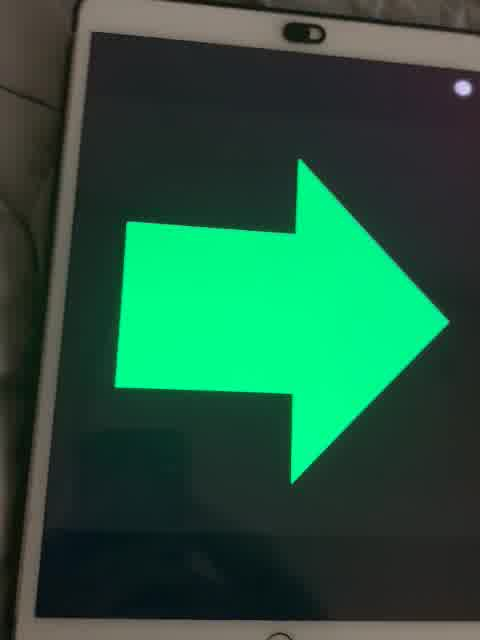right: (109, 140, 451, 492)
